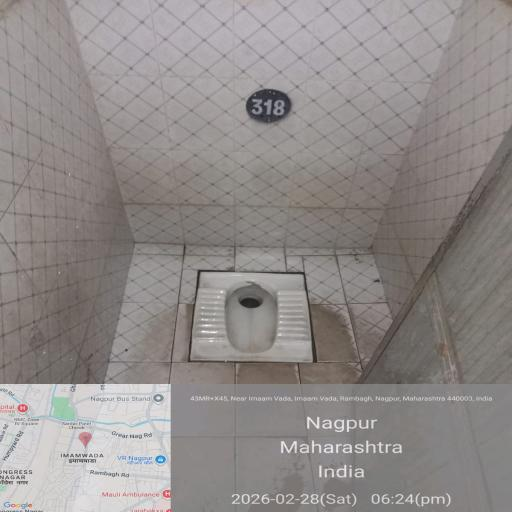clean_floor: (64, 28, 432, 197)
clean_indian: (206, 274, 342, 358)
partial_dirty_floor: (112, 250, 471, 512)
